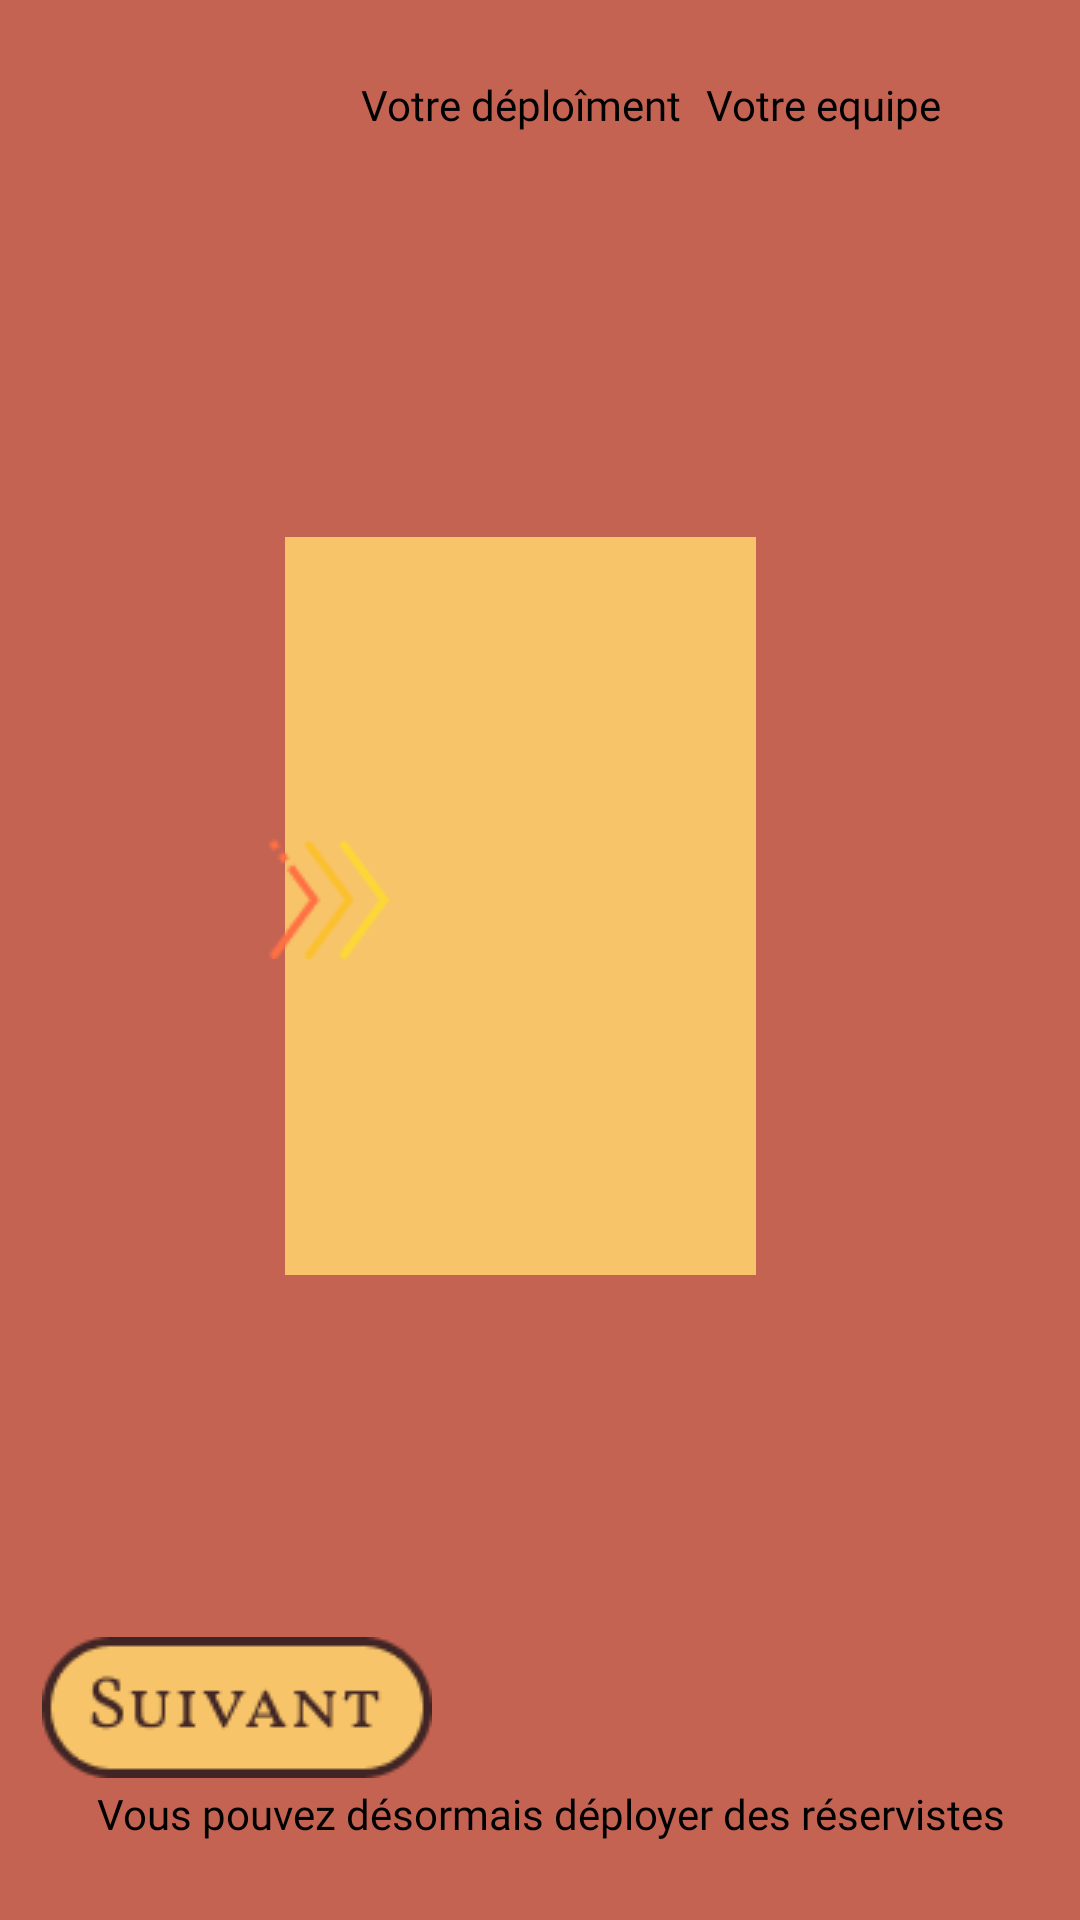

Screen size 1080 × 1920. Icon name, then its box in pixels as {"left": x1, "top": y1, "right": x2, "bottom": y2}:
deploy arrow: {"left": 269, "top": 839, "right": 389, "bottom": 959}
